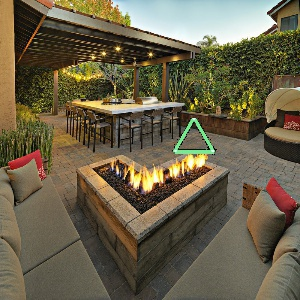triangle: (169, 113, 219, 158)
